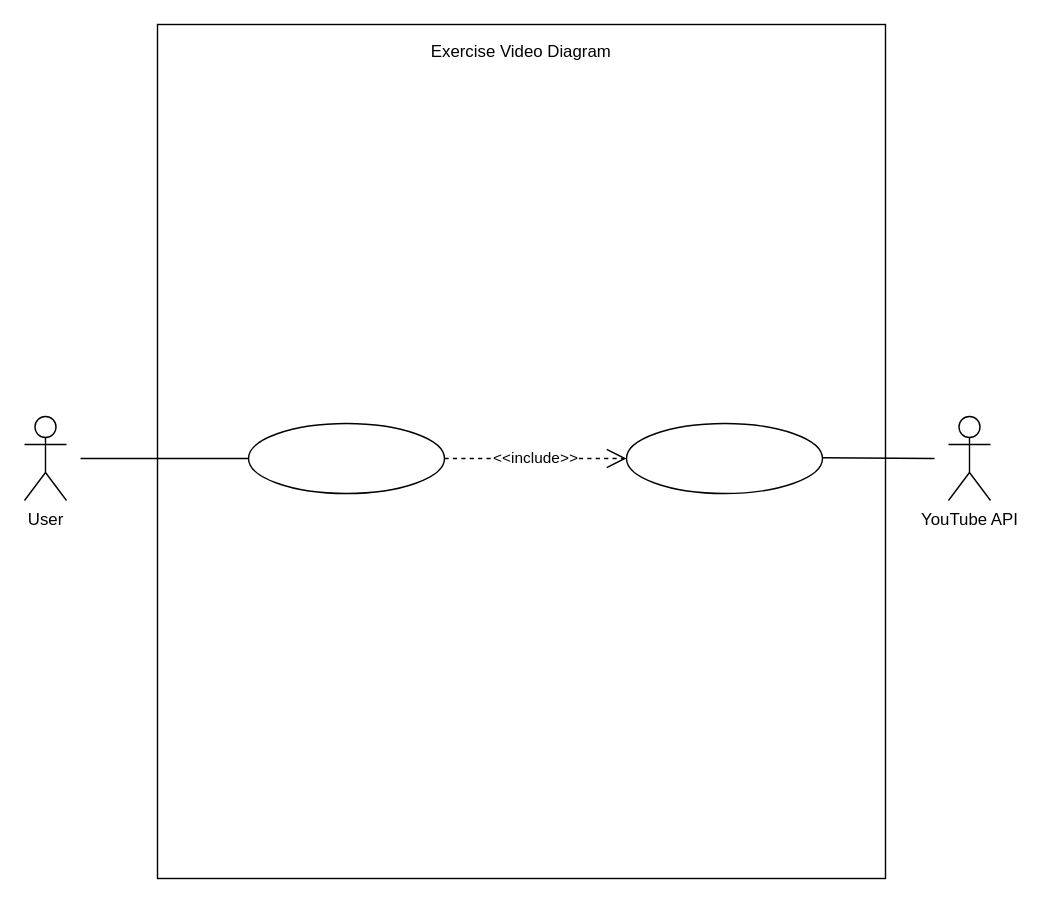
Some shapes in this 1042 by 903 pixel diagram are drawn without their labels. The box of each missing label's shape, as (x1, y1, x2, y2) in pixels:
Load Exercise Video: (625, 422, 822, 493)
Select Exercise Video from Exercise Screen: (247, 422, 444, 493)
